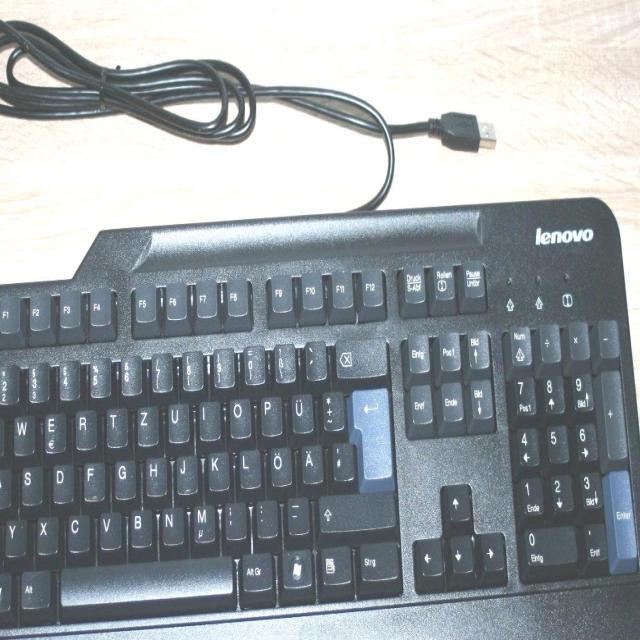0: (241, 341, 265, 383)
1: (0, 362, 11, 405)
2: (0, 358, 18, 403)
3: (25, 358, 49, 401)
4: (56, 355, 79, 398)
5: (87, 352, 110, 396)
6: (118, 349, 141, 393)
7: (149, 348, 172, 390)
8: (180, 346, 203, 389)
9: (210, 342, 234, 386)
a: (0, 463, 11, 506)
accent: (303, 336, 325, 378)
ae: (299, 439, 322, 481)
alt-left: (17, 566, 49, 607)
altgr-right: (238, 548, 271, 589)
b: (127, 504, 151, 544)
c: (65, 509, 88, 549)
caret: (0, 365, 11, 406)
comma: (222, 498, 245, 538)
d: (50, 459, 73, 501)
del: (333, 332, 387, 377)
e: (41, 407, 65, 450)
enter: (349, 384, 392, 479)
f: (81, 457, 104, 498)
g: (111, 455, 135, 497)
h: (143, 452, 166, 493)
hash: (330, 438, 353, 479)
i: (196, 396, 219, 438)
j: (173, 450, 196, 492)
k: (206, 447, 229, 489)
keyboard: (0, 234, 640, 640)
l: (238, 446, 261, 487)
less: (0, 517, 12, 559)
m: (190, 500, 215, 540)
minus: (285, 492, 308, 532)
n: (159, 503, 182, 543)
o: (227, 393, 250, 436)
oe: (268, 442, 291, 484)
p: (258, 392, 281, 434)
plus: (320, 387, 343, 429)
point: (253, 496, 277, 535)
q: (0, 414, 12, 456)
r: (72, 405, 96, 447)
s: (18, 462, 42, 503)
shift-left: (0, 521, 16, 561)
shift-lock: (0, 468, 19, 511)
shift-right: (316, 489, 395, 529)
space: (56, 553, 234, 610)
ss: (272, 338, 295, 381)
strg-left: (0, 570, 20, 612)
strg-right: (355, 537, 399, 581)
t: (104, 402, 126, 444)
tab: (0, 416, 19, 459)
u: (165, 399, 188, 441)
ue: (289, 389, 313, 432)
v: (96, 508, 120, 547)
w: (11, 410, 34, 452)
x: (34, 512, 57, 552)
y: (3, 516, 26, 554)
z: (135, 401, 158, 443)
